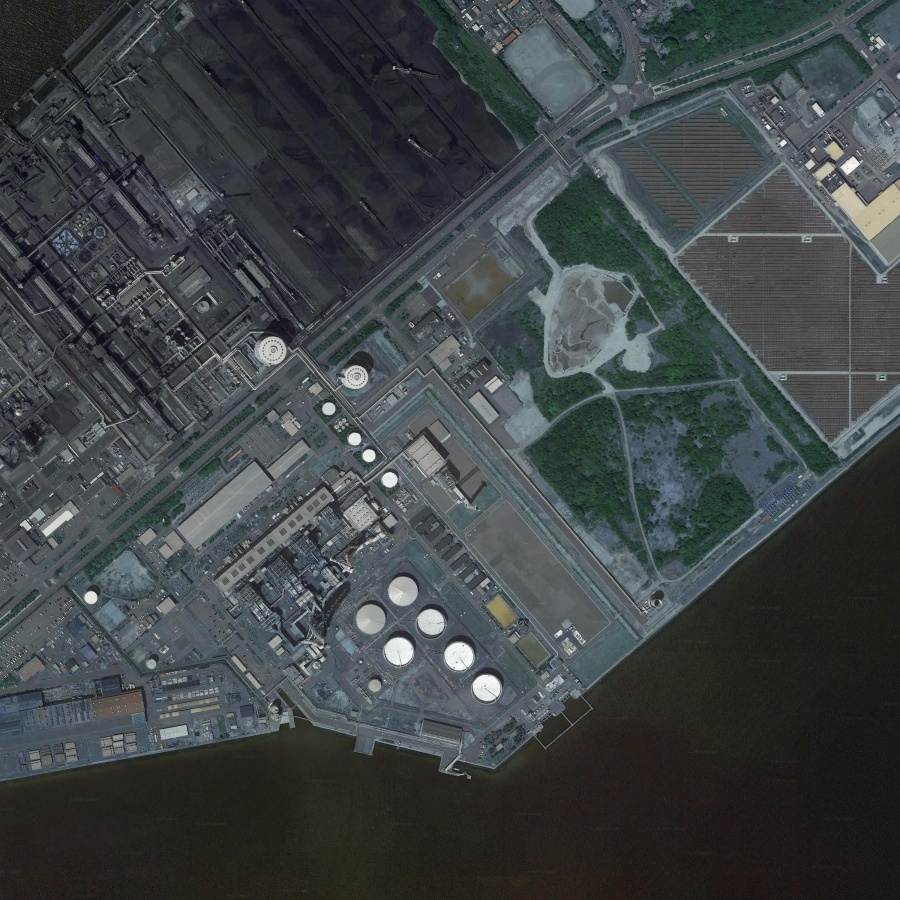PowerPlant: (224, 322, 524, 702)
